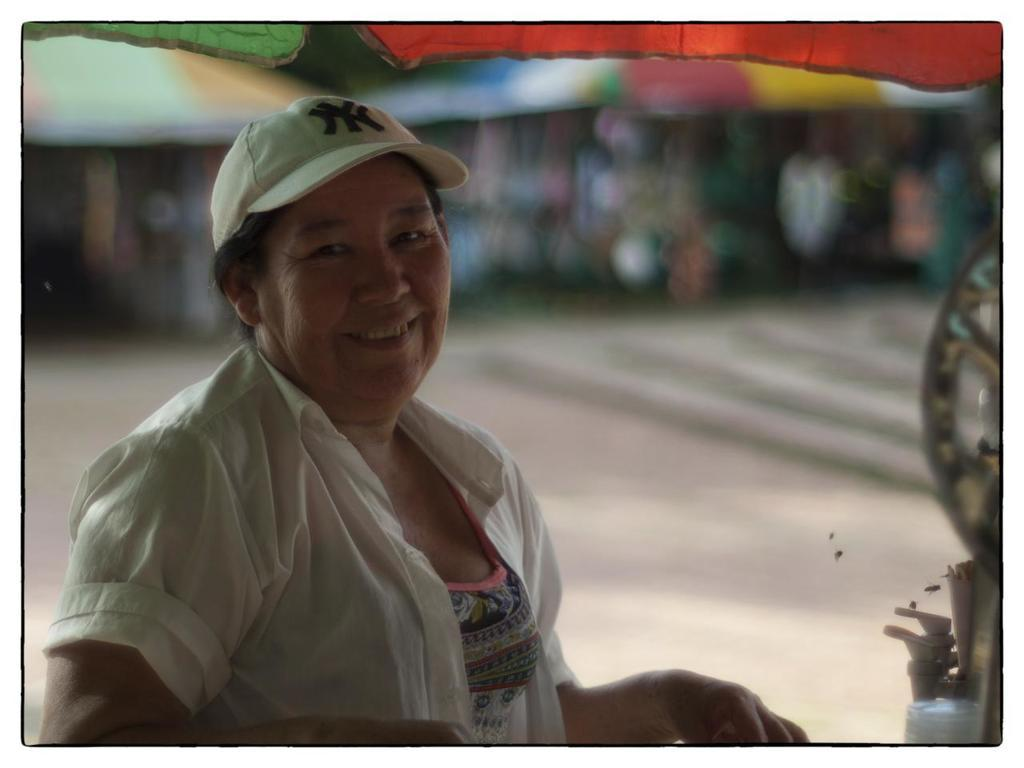Hat: (208, 92, 464, 252)
